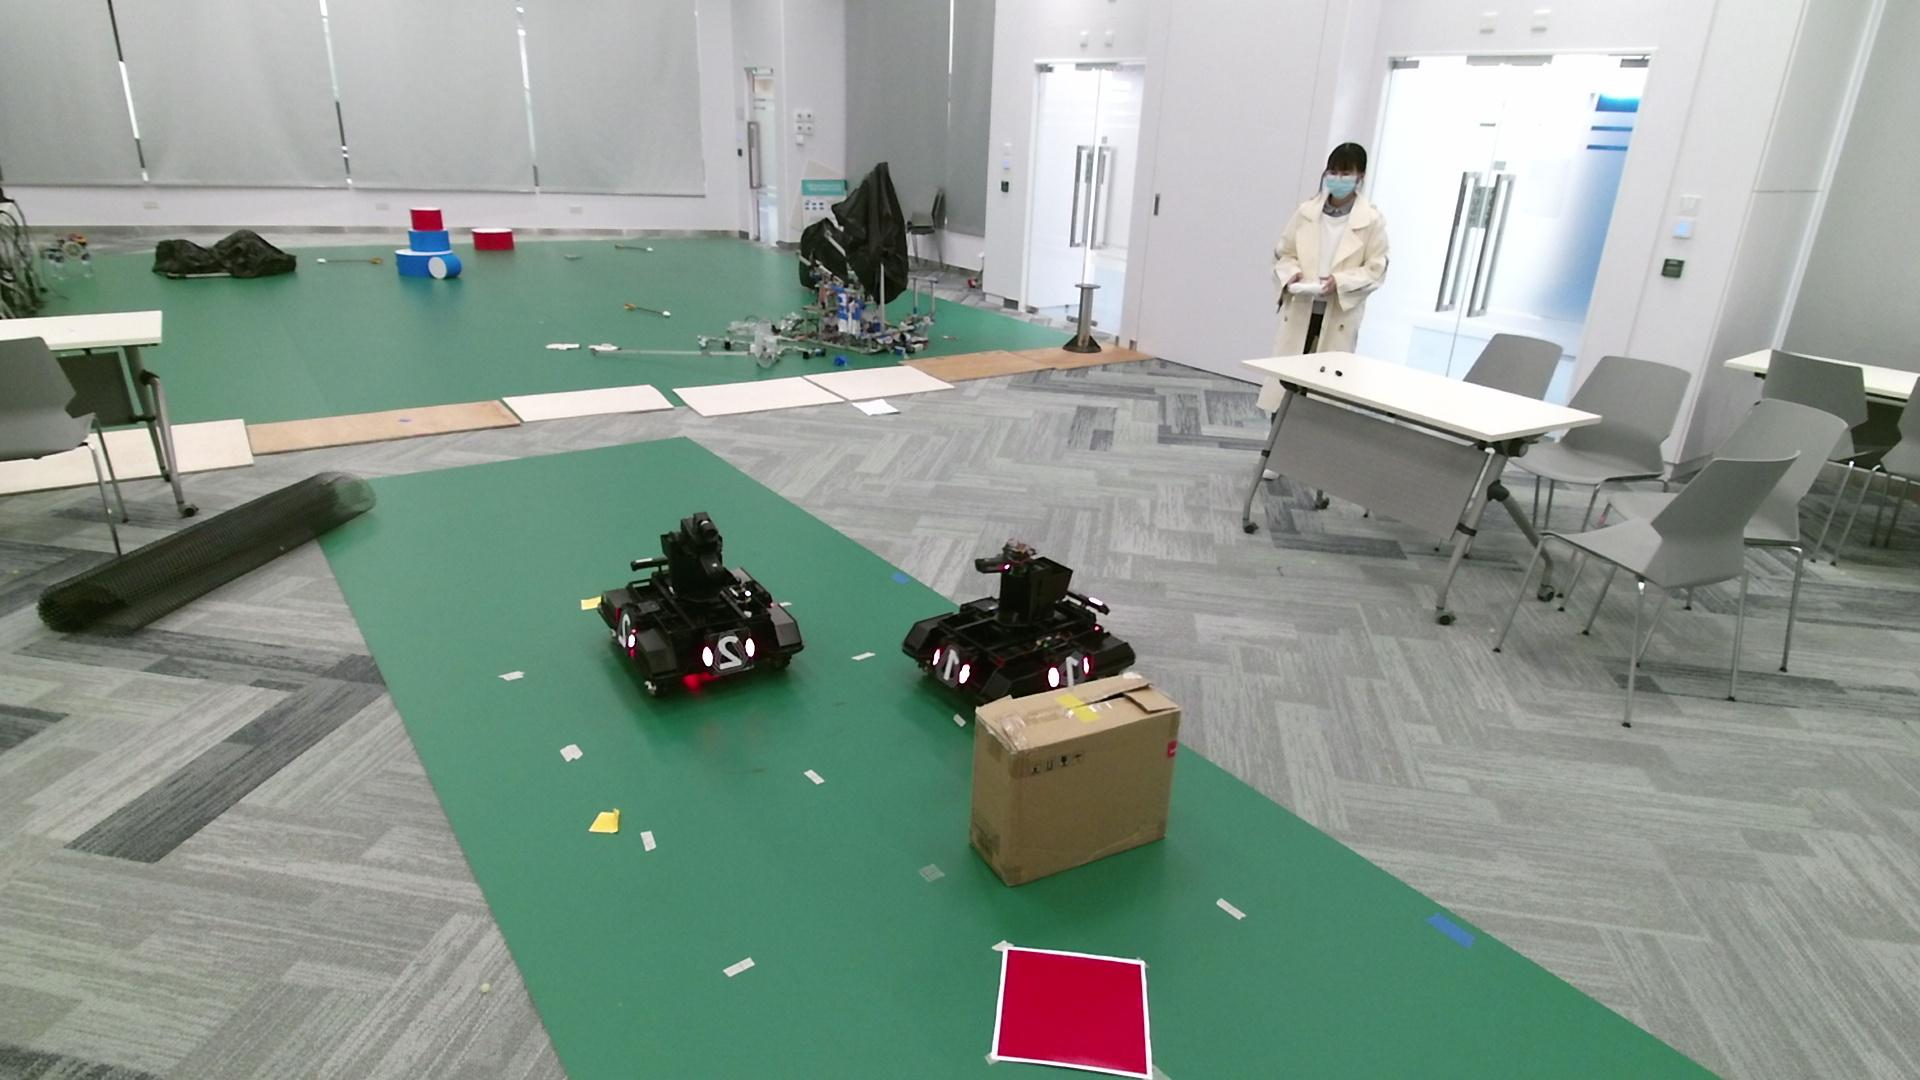robot: (899, 538, 1135, 708), (597, 510, 804, 699)
